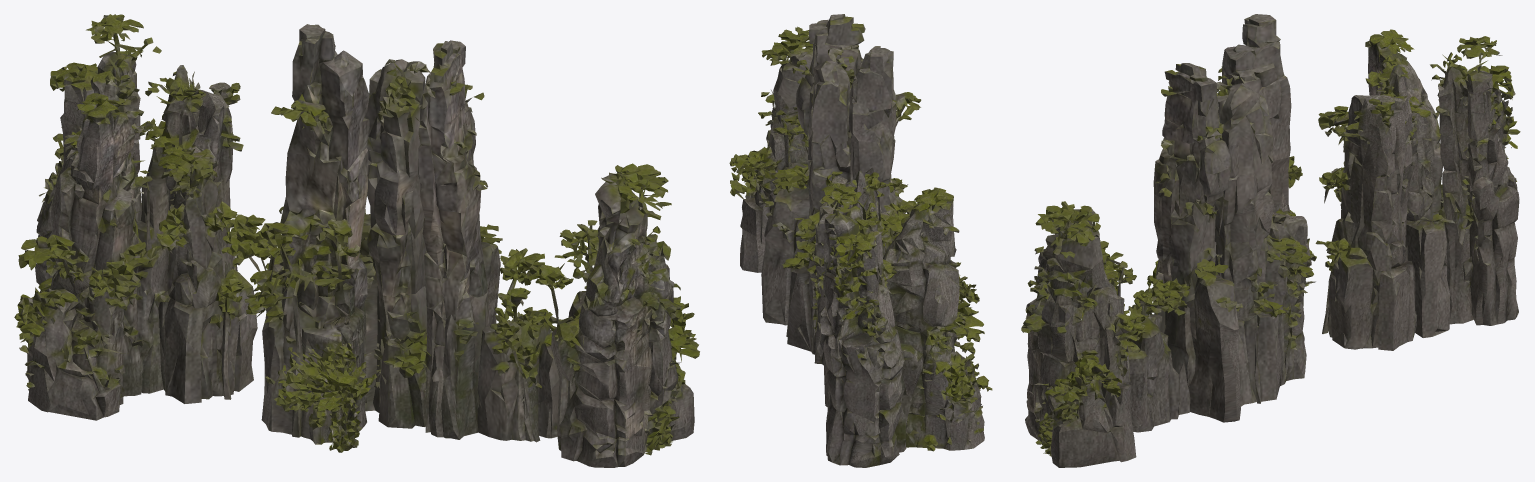
File: pillars_b_mid.glb
3 renders of one model, left to right at view 1: azimuth 30°, elevation 25°; view 2: azimuth 150°, elevation 25°; view 3: azimuth 270°, elevation 25°, orthographic. The views are drawn at different scales.
Parts seen in each view (by area): view 1: Mesh_0; view 2: Mesh_0; view 3: Mesh_0.
Boxes of the visible parts, x1,y1,x2,y2 form: Mesh_0: [14, 14, 699, 467]; Mesh_0: [729, 14, 992, 467]; Mesh_0: [1021, 14, 1520, 467].
Size of the model in its own units: 1.89 by 1.39 by 1.87.
1 material, 1 textured.
